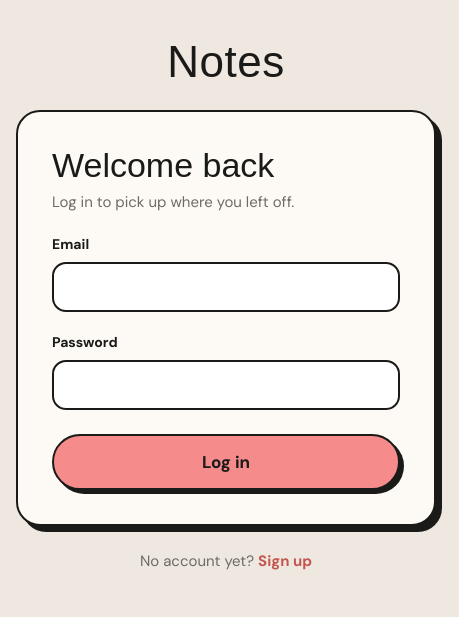
Test case: LoginPage › shows the server message when the credentials are rejected
The width and height of the screenshot is (459, 617).
In the field labelled "Email": {"x": 226, "y": 287} [52,262,400,312], type "alice@example.com"
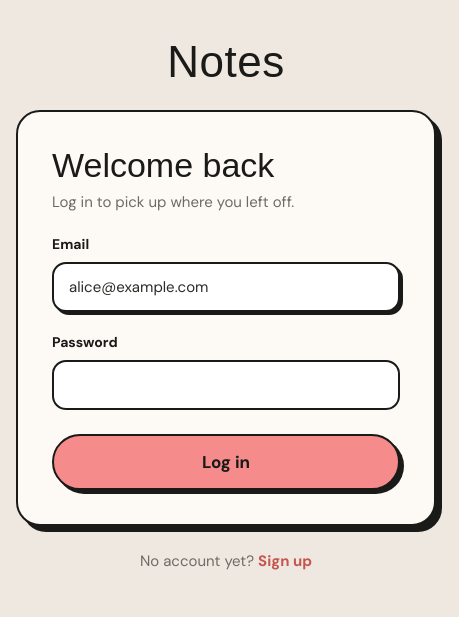
In the password field labelled "Password": {"x": 226, "y": 385} [52,360,400,410], type "wrong"
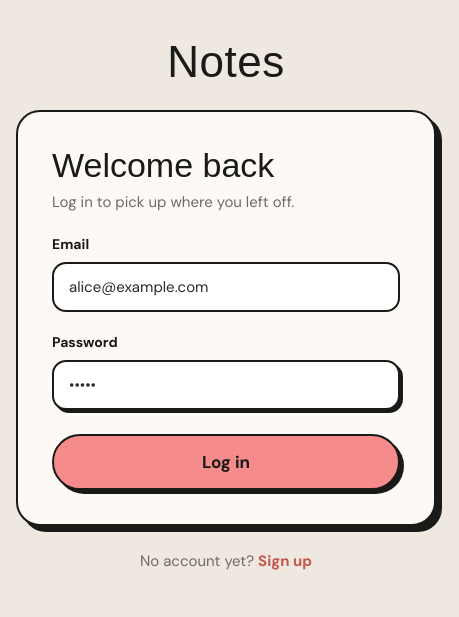
Click the button "Log in": {"x": 226, "y": 462} [52,434,400,490]
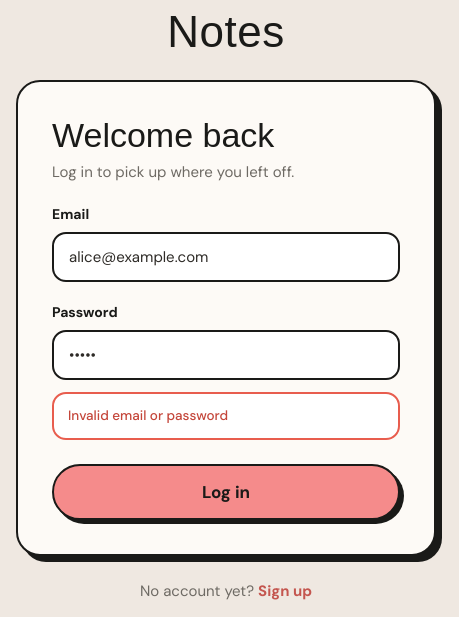
Expected: the message reads "Invalid email or password", [68,407,228,424]
